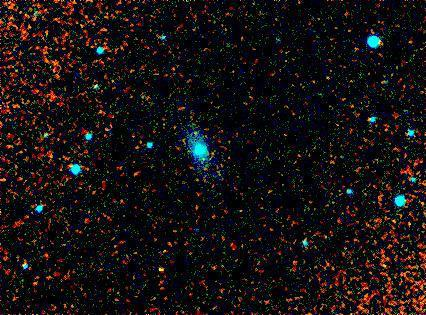star: (148, 253, 178, 283)
